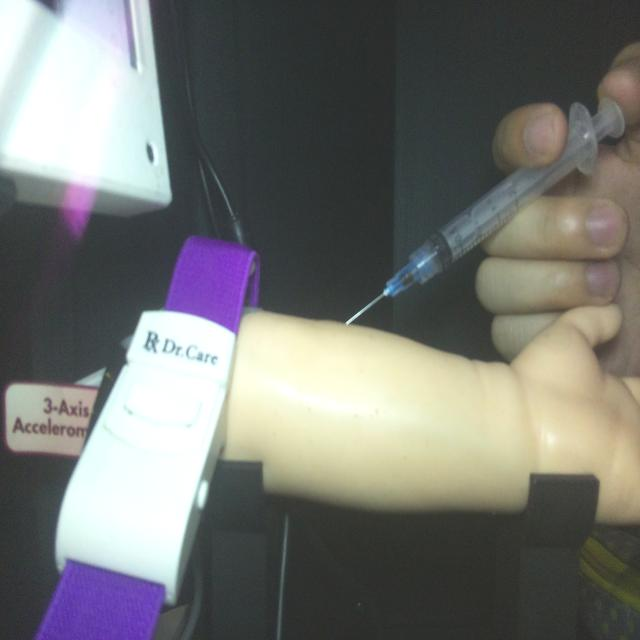29 degrees: (343, 94, 626, 327)
